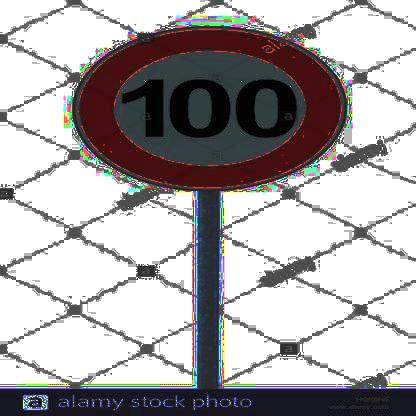Speed Limit -100-: (68, 25, 349, 193)
